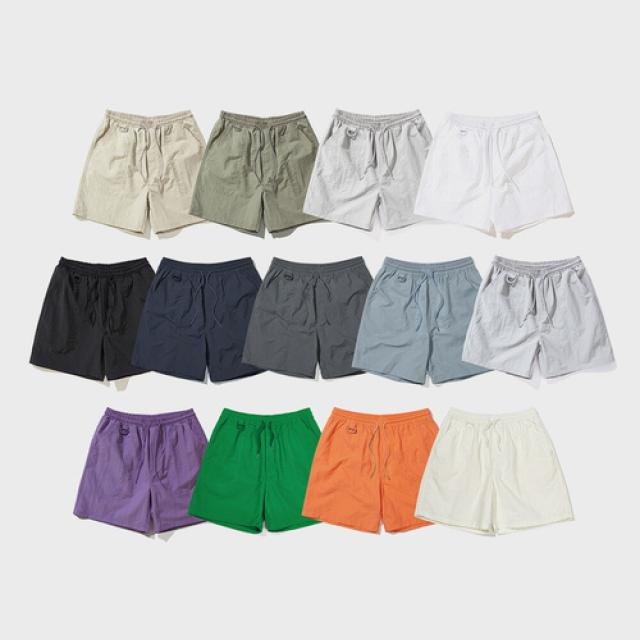dress: (436, 248, 618, 380), (426, 401, 570, 538), (416, 124, 576, 231), (355, 251, 485, 377), (249, 254, 381, 378), (134, 264, 272, 375), (41, 255, 161, 376), (82, 114, 212, 225), (194, 119, 326, 227), (320, 109, 425, 234)
